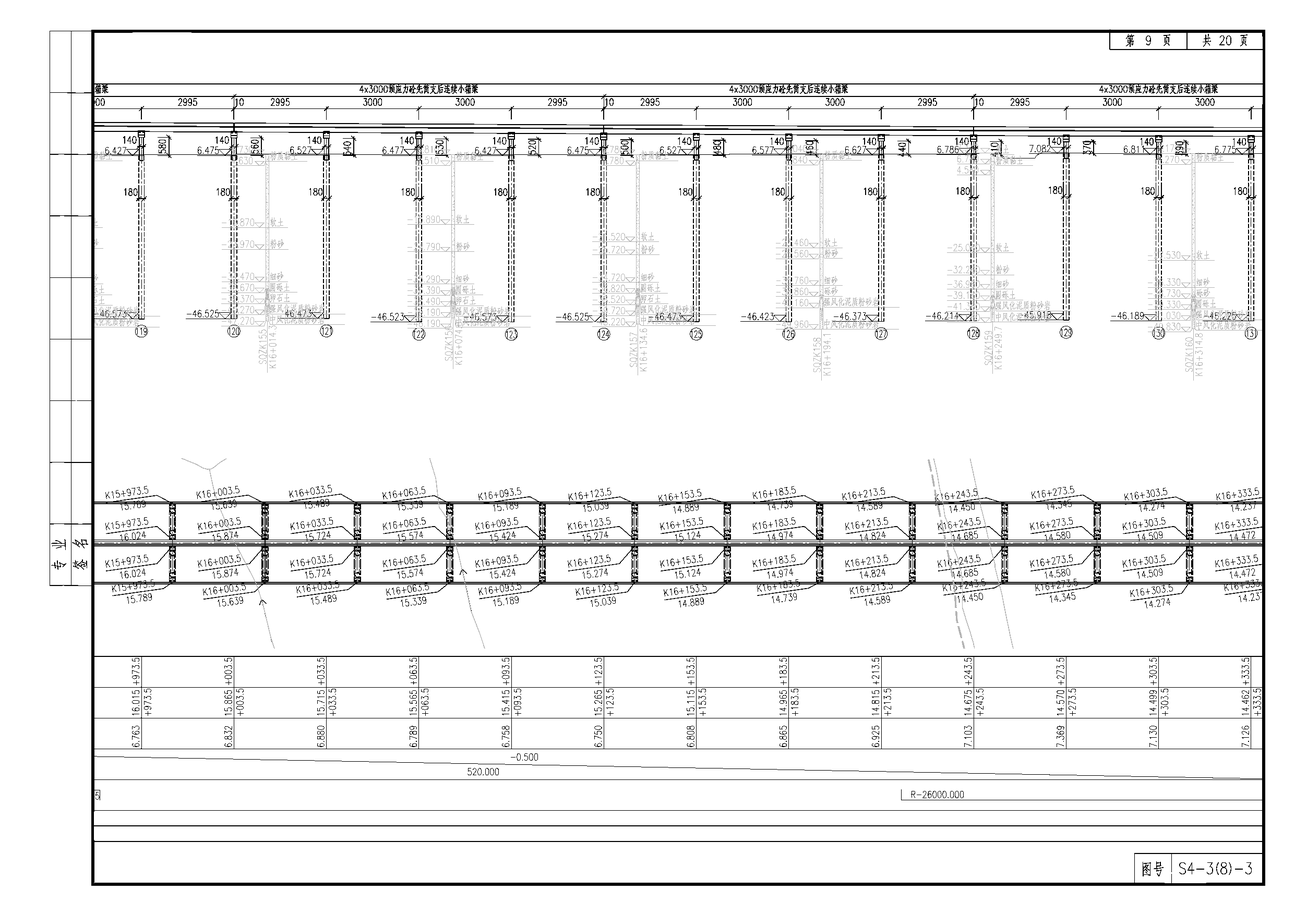A: (90, 68, 1266, 385)
